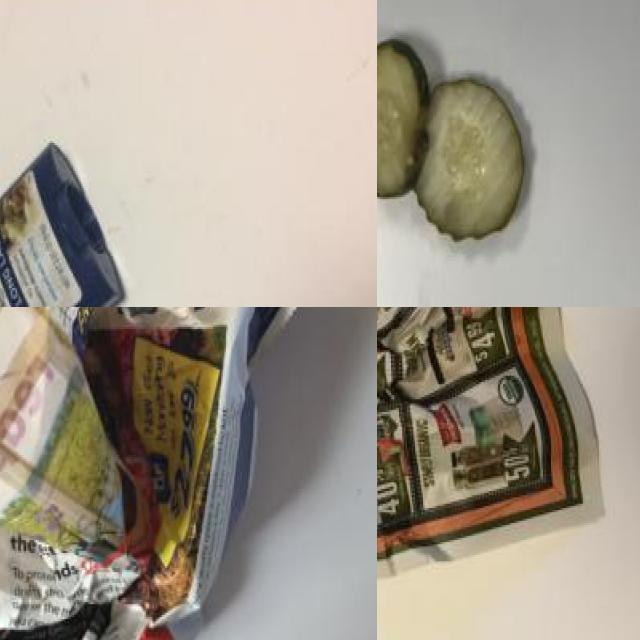compost: (377, 13, 548, 285)
paper: (0, 307, 377, 640), (377, 307, 600, 609)
trash: (0, 131, 143, 307)
